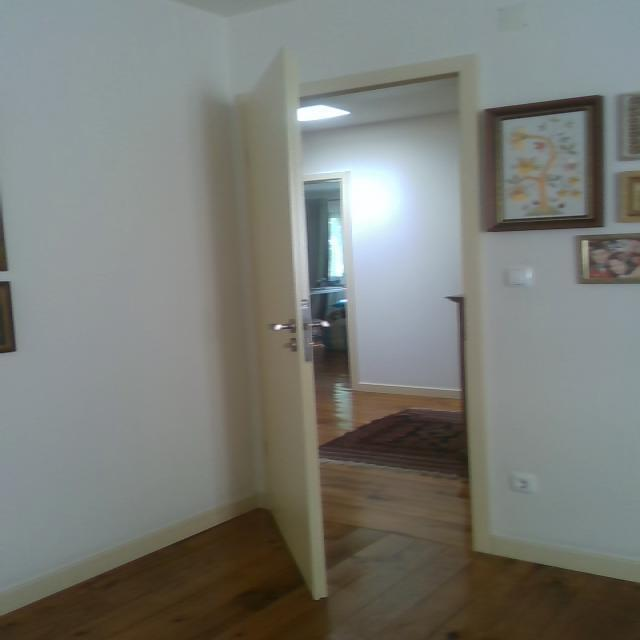door: (227, 30, 351, 616)
